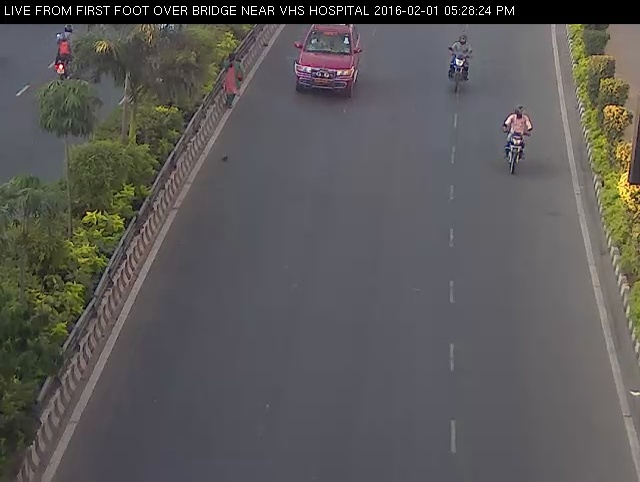Car: (284, 17, 368, 104)
Person: (496, 98, 536, 184), (215, 48, 249, 116), (443, 33, 478, 96)
